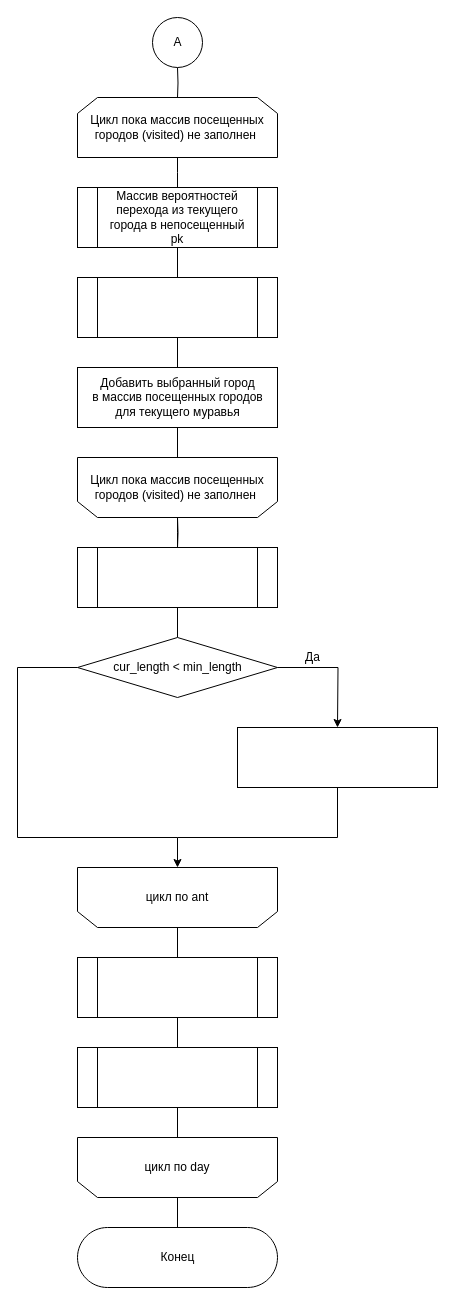
Some shapes in this 455 by 1305 pixel diagram are drawn without their labels. The centre of each missing label's shape, as x and y in pixels:
chosen_place = choose_next_place(pk): the point at 177,307
cur_length = calc_length(matrix, visited[ant]): the point at 177,577
min_length = cur_dist best_way = visited[ant]: the point at 337,757
Обновить матрицу феромонов: the point at 177,987
Обновить матрицу феромонов элитными муравьями: the point at 177,1077
